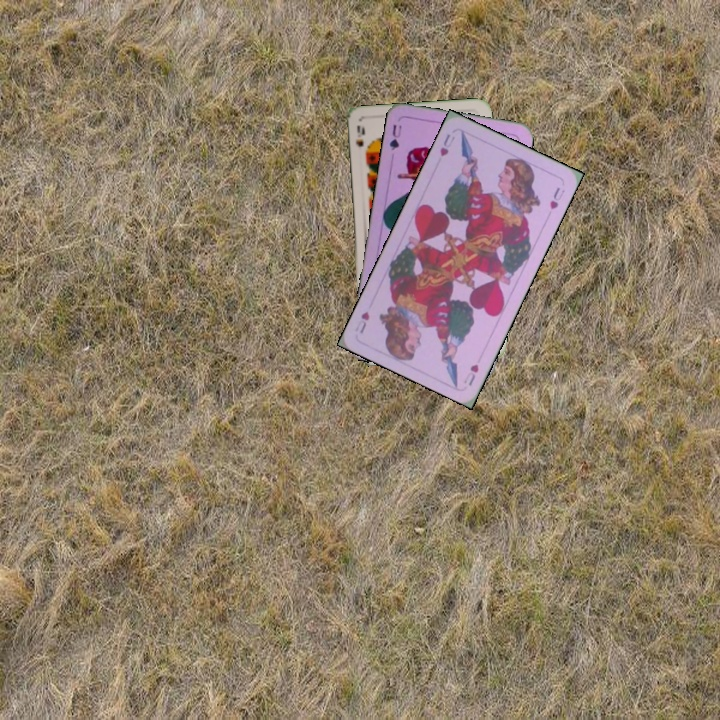GU: (385, 120, 404, 155)
HU: (436, 130, 457, 160), (460, 360, 481, 388)
S9: (352, 121, 367, 150)
